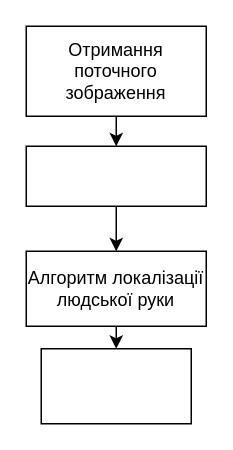
The diagram is 233 pixels wide and 450 high, and some of its shapes have lost their labels. The centre of each missing label's shape, as x and y in pixels:
Бінарне зображення областей: point (115, 385)
Попередня обробка зображення: point (115, 175)
